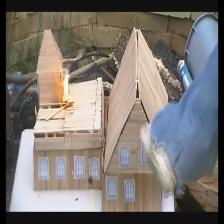fire: (60, 75, 73, 102)
